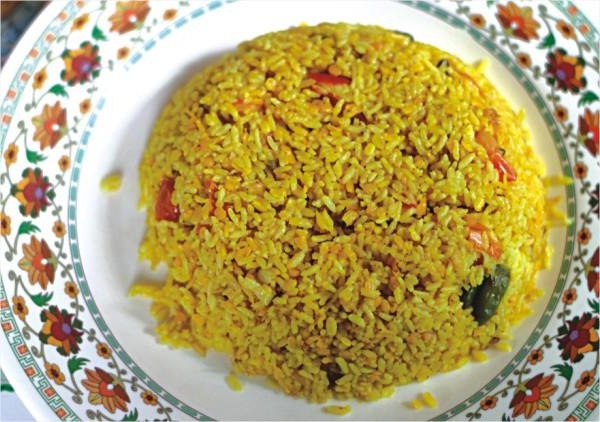khichuri: (141, 23, 569, 399)
